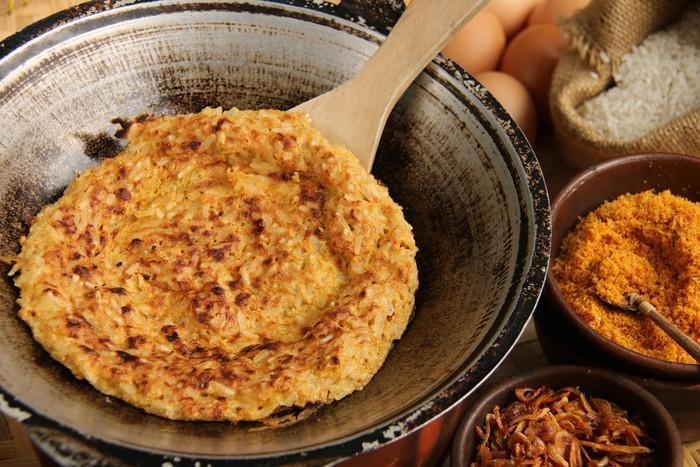kerak_telor: (9, 107, 419, 422)
